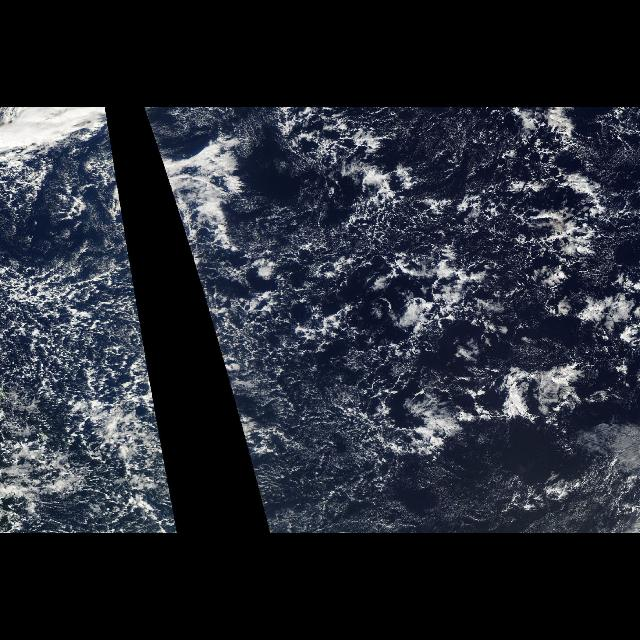Fish: (354, 344, 612, 474)
Gravel: (145, 111, 640, 534), (1, 111, 180, 534)
Sugar: (264, 424, 638, 530)
